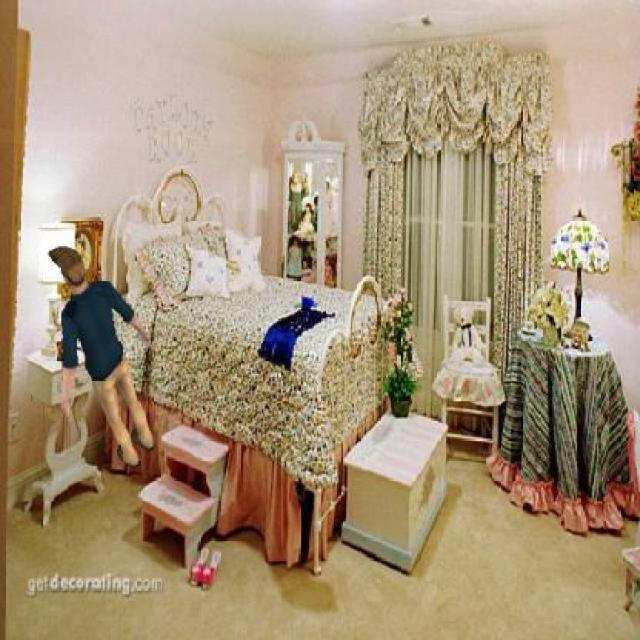Person: (45, 245, 157, 470)
